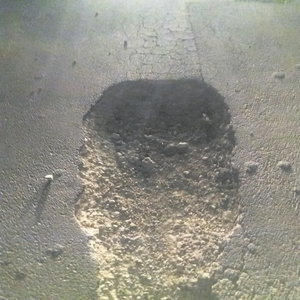pothole: (69, 74, 246, 300)
